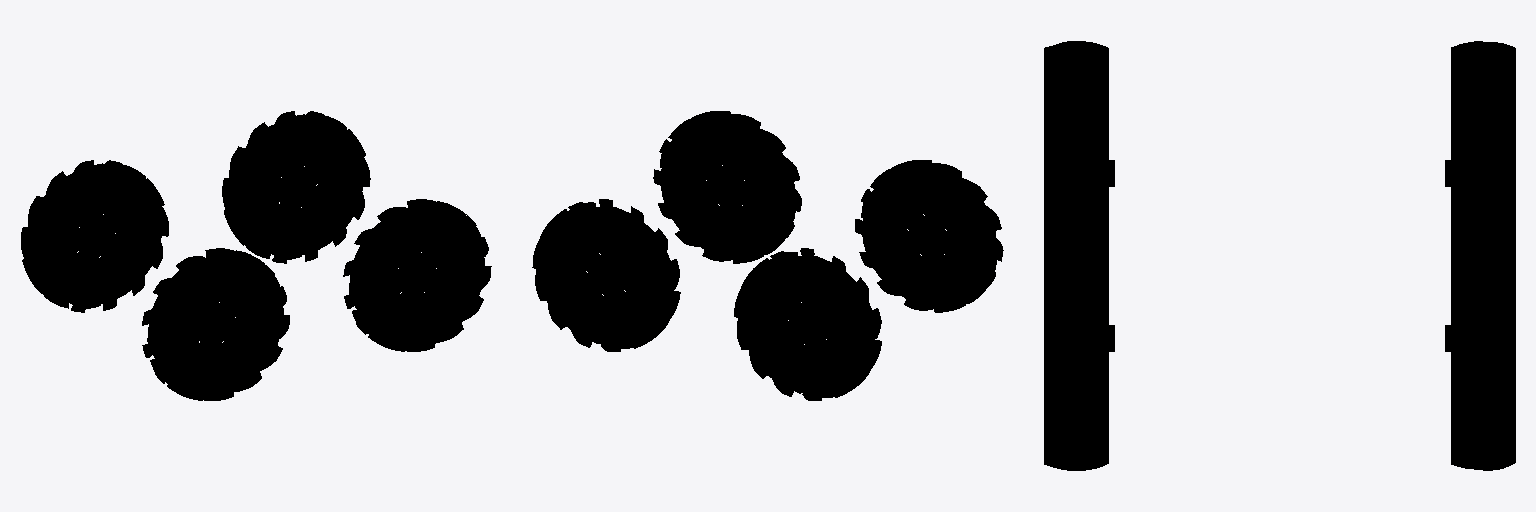
URDF robot description (mr1000):
<?xml version="1.0" encoding="utf-8"?>
<!-- This URDF was automatically created by SolidWorks to URDF Exporter! Originally created by Stephen Brawner ([email redacted]) 
     Commit Version: 1.5.0-0-g9aa0fdb  Build Version: 1.5.7004.21443
     For more information, please see http://wiki.ros.org/sw_urdf_exporter -->
<robot
  name="mr1000">
  <link
    name="base_link">
    <inertial>
      <origin
        xyz="0.0083361 0.00033765 0.10648"
        rpy="0 0 0" />
      <mass
        value="13.336" />
      <inertia
        ixx="0.12049"
        ixy="5.9344E-06"
        ixz="-0.001006"
        iyy="0.32804"
        iyz="-7.8809E-07"
        izz="0.41342" />
    </inertial>
    <visual>
      <origin
        xyz="0 0 0.126"
        rpy="0 0 0" />
      <geometry>
        <mesh
          filename="package://mr1000/meshes/base_link.STL" />
      </geometry>
      <material
        name="">
        <color
          rgba="1 1 0 1" />
      </material>
    </visual>
    <collision>
      <origin
        xyz="0 0 0"
        rpy="0 0 0" />
      <geometry>
        <mesh
          filename="package://mr1000/meshes/base_link.STL" />
      </geometry>
    </collision>
  </link>
  <link
    name="L1">
    <inertial>
      <origin
        xyz="6.2688E-06 -0.019239 1.4959E-05"
        rpy="0 0 0" />
      <mass
        value="0.98748" />
      <inertia
        ixx="0.0094116"
        ixy="-1.3057E-08"
        ixz="3.8309E-07"
        iyy="0.017882"
        iyz="-2.274E-08"
        izz="0.0094124" />
    </inertial>
    <visual>
      <origin
        xyz="0 0 0"
        rpy="0 0 0" />
      <geometry>
        <mesh
          filename="package://mr1000/meshes/L1.STL" />
      </geometry>
      <material
        name="">
        <color
          rgba="0 0 0 1" />
      </material>
    </visual>
    <collision>
      <origin
        xyz="0 0 0"
        rpy="0 0 0" />
      <geometry>
        <mesh
          filename="package://mr1000/meshes/L1.STL" />
      </geometry>
    </collision>
  </link>
  <joint
    name="LJ1"
    type="continuous">
    <origin
      xyz="0.25721 0.271 0.165"
      rpy="0 0 0" />
    <parent
      link="base_link" />
    <child
      link="L1" />
    <axis
      xyz="0 1 0" />
    <safety_controller
      k_velocity="0" />
  </joint>
  <link
    name="L2">
    <inertial>
      <origin
        xyz="6.2688E-06 -0.019239 1.4959E-05"
        rpy="0 0 0" />
      <mass
        value="0.98748" />
      <inertia
        ixx="0.0094116"
        ixy="-1.3057E-08"
        ixz="3.8309E-07"
        iyy="0.017882"
        iyz="-2.274E-08"
        izz="0.0094124" />
    </inertial>
    <visual>
      <origin
        xyz="0 0 0"
        rpy="0 0 0" />
      <geometry>
        <mesh
          filename="package://mr1000/meshes/L1.STL" />
      </geometry>
      <material
        name="">
        <color
          rgba="0 0 0 1" />
      </material>
    </visual>
    <collision>
      <origin
        xyz="0 0 0"
        rpy="0 0 0" />
      <geometry>
        <mesh
          filename="package://mr1000/meshes/L1.STL" />
      </geometry>
    </collision>
  </link>
  <joint
    name="LJ2"
    type="continuous">
    <origin
      xyz="-0.22979 0.271 0.165"
      rpy="0 0 0" />
    <parent
      link="base_link" />
    <child
      link="L2" />
    <axis
      xyz="0 1 0" />
    <safety_controller
      k_velocity="0" />
  </joint>
  <link
    name="R1">
    <inertial>
      <origin
        xyz="6.1624E-06 -0.019239 -1.5005E-05"
        rpy="0 0 0" />
      <mass
        value="0.98748" />
      <inertia
        ixx="0.0094116"
        ixy="-7.0489E-09"
        ixz="-3.9463E-07"
        iyy="0.017882"
        iyz="2.5464E-08"
        izz="0.0094124" />
    </inertial>
    <visual>
      <origin
        xyz="0 0 0"
        rpy="0 0 0" />
      <geometry>
        <mesh
          filename="package://mr1000/meshes/L1.STL" />
      </geometry>
      <material
        name="">
        <color
          rgba="0 0 0 1" />
      </material>
    </visual>
    <collision>
      <origin
        xyz="0 0 0"
        rpy="0 0 0" />
      <geometry>
        <mesh
          filename="package://mr1000/meshes/L1.STL" />
      </geometry>
    </collision>
  </link>
  <joint
    name="RJ1"
    type="continuous">
    <origin
      xyz="0.25721 -0.271 0.165"
      rpy="3.1416 0 0" />
    <parent
      link="base_link" />
    <child
      link="R1" />
    <axis
      xyz="0 1 0" />
    <safety_controller
      k_velocity="0" />
  </joint>
  <link
    name="R2">
    <inertial>
      <origin
        xyz="6.1624E-06 -0.019239 -1.5005E-05"
        rpy="0 0 0" />
      <mass
        value="0.98748" />
      <inertia
        ixx="0.0094116"
        ixy="-7.0489E-09"
        ixz="-3.9463E-07"
        iyy="0.017882"
        iyz="2.5464E-08"
        izz="0.0094124" />
    </inertial>
    <visual>
      <origin
        xyz="0 0 0"
        rpy="0 0 0" />
      <geometry>
        <mesh
          filename="package://mr1000/meshes/L1.STL" />
      </geometry>
      <material
        name="">
        <color
          rgba="0 0 0 1" />
      </material>
    </visual>
    <collision>
      <origin
        xyz="0 0 0"
        rpy="0 0 0" />
      <geometry>
        <mesh
          filename="package://mr1000/meshes/L1.STL" />
      </geometry>
    </collision>
  </link>
  <joint
    name="RJ2"
    type="continuous">
    <origin
      xyz="-0.22979 -0.271 0.165"
      rpy="3.1416 0 0" />
    <parent
      link="base_link" />
    <child
      link="R2" />
    <axis
      xyz="0 1 0" />
    <safety_controller
      k_velocity="0" />
  </joint>
</robot>

--- Facts derived from the render (not from the file) ---
The picture shows the robot from 3 angles, left to right: view 1: azimuth 30°, elevation 25°; view 2: azimuth 150°, elevation 25°; view 3: azimuth 270°, elevation 25°; orthographic projection.
Robot: mr1000 — 5 links, 4 joints (4 continuous); root link base_link; default pose: every joint at zero.
Links seen in each view (by area): view 1: L1, L2, R2, R1; view 2: R2, R1, L1, L2; view 3: R1, L1, R2, L2.
Boxes of the visible links, x1,y1,x2,y2 form: L1: [222, 111, 370, 263]; L2: [21, 160, 168, 312]; R2: [142, 248, 289, 400]; R1: [343, 199, 491, 351]; R2: [855, 160, 1003, 312]; R1: [653, 111, 801, 263]; L1: [532, 199, 680, 351]; L2: [734, 248, 881, 400]; R1: [1044, 206, 1114, 470]; L1: [1445, 206, 1515, 470]; R2: [1044, 41, 1114, 212]; L2: [1445, 41, 1515, 212].
Bounding box of the posed robot: 0.817 × 0.5864 × 0.3299 m (x, y, z).
4 mesh visuals loaded from 2 distinct referenced files (1 binary STL); not drawn: 1 (reference not matched to a file when rendering).
